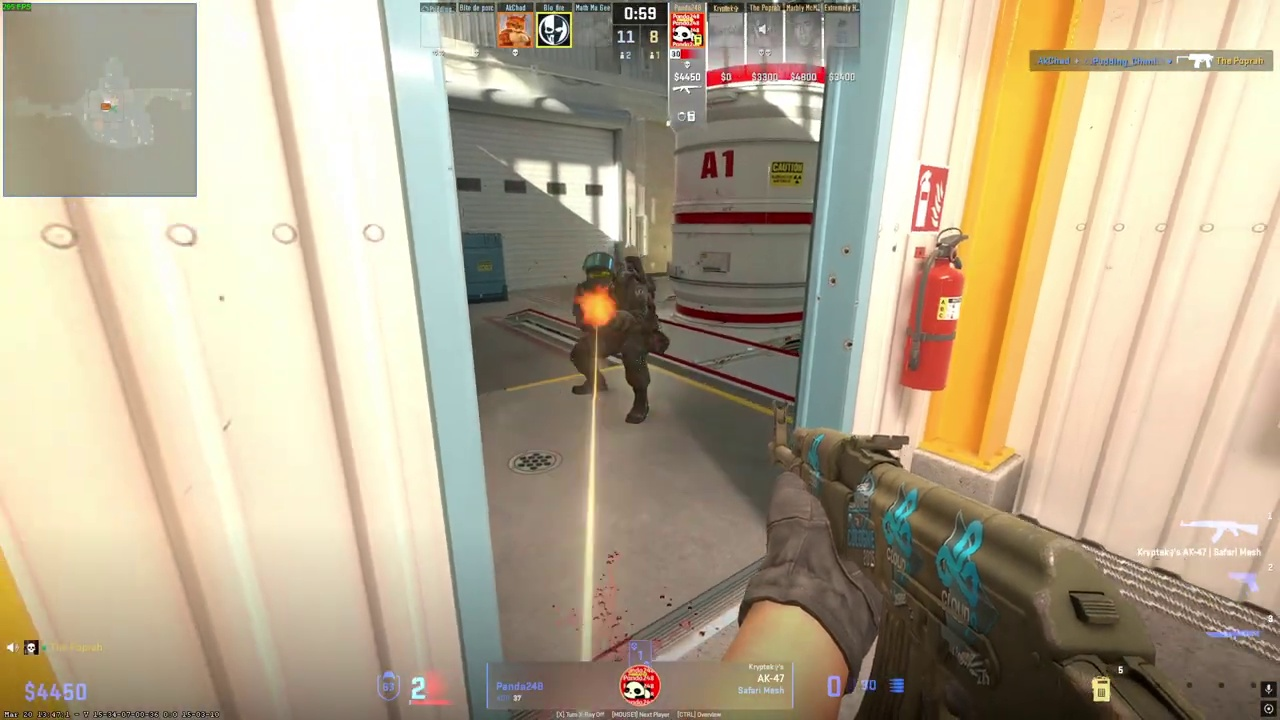CT: (566, 251, 663, 419)
